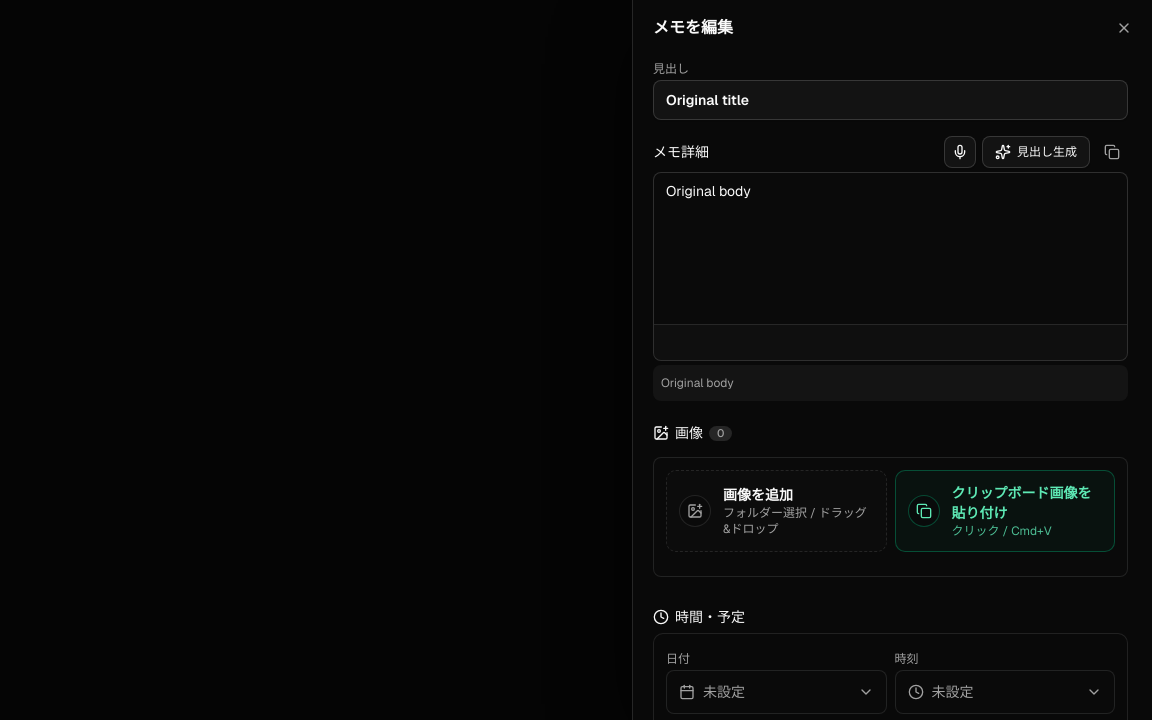
WishlistCardDetail › 日付を選択するとカレンダーPopoverを閉じる
Click the button "未設定" below "日付": (776, 692) x1=666 y1=670 x2=886 y2=714
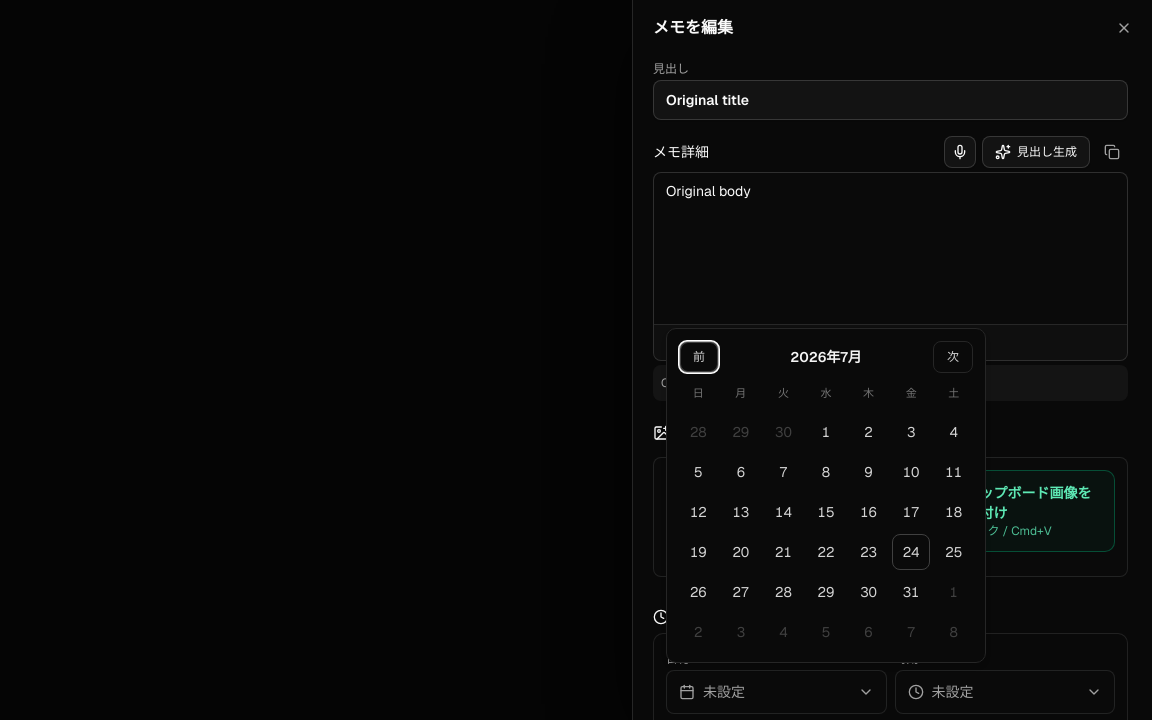
Check: the button "前" is shown, box x1=679 y1=341 x2=719 y2=373
Click the 1st button "1": (826, 432) x1=807 y1=414 x2=845 y2=450
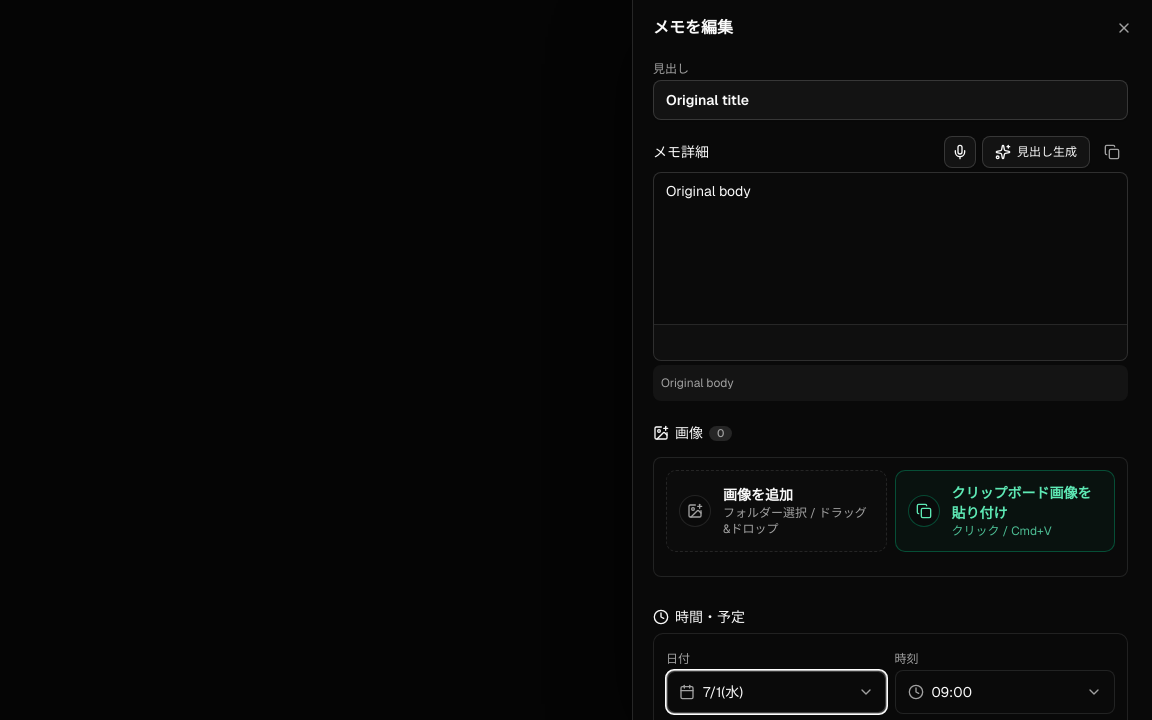
Check: the button "前" is gone
